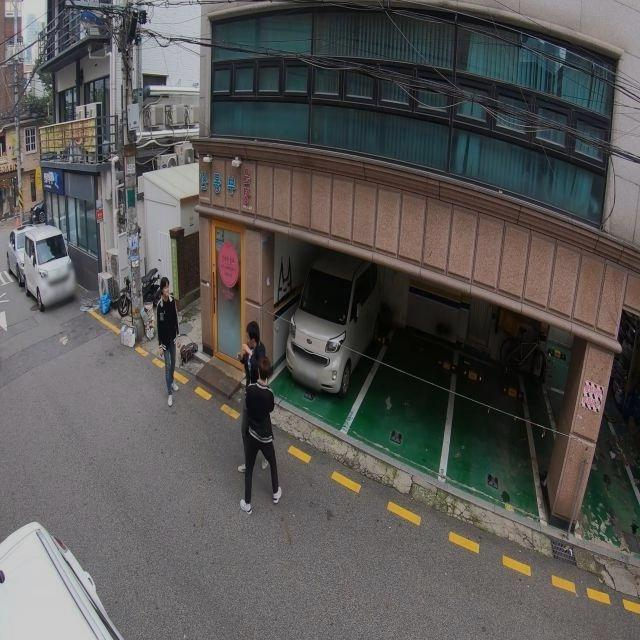fight: (233, 317, 283, 512)
non-fight: (156, 276, 180, 409)
